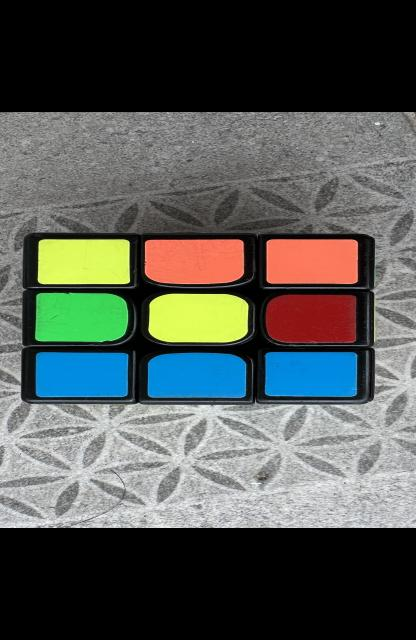Blue: (146, 352, 245, 398), (35, 352, 128, 397), (265, 352, 356, 396)
Green: (35, 292, 128, 342)
Orange: (143, 240, 243, 284), (265, 240, 358, 283)
Red: (265, 295, 356, 343)
Yellow: (148, 293, 248, 343), (36, 240, 130, 284)
